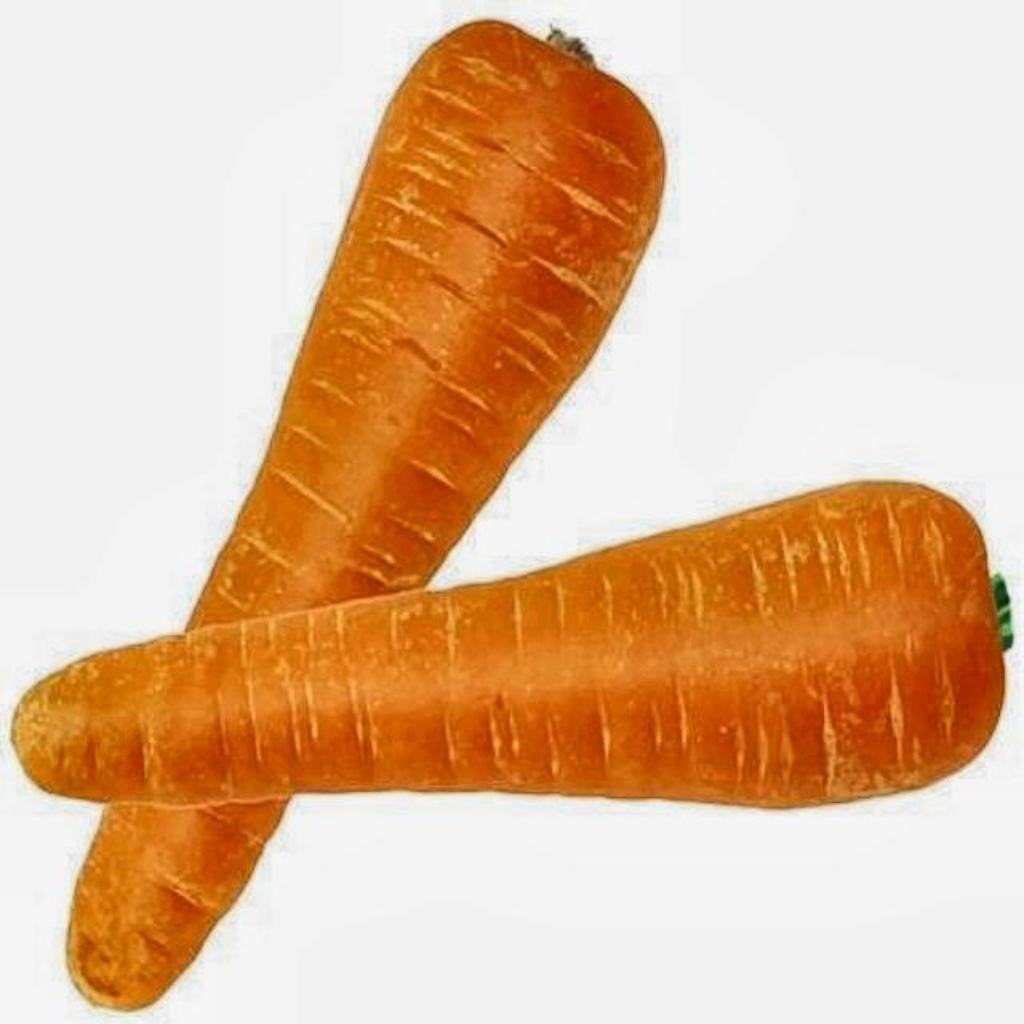carrot: (67, 22, 664, 1010), (14, 482, 1004, 806)
